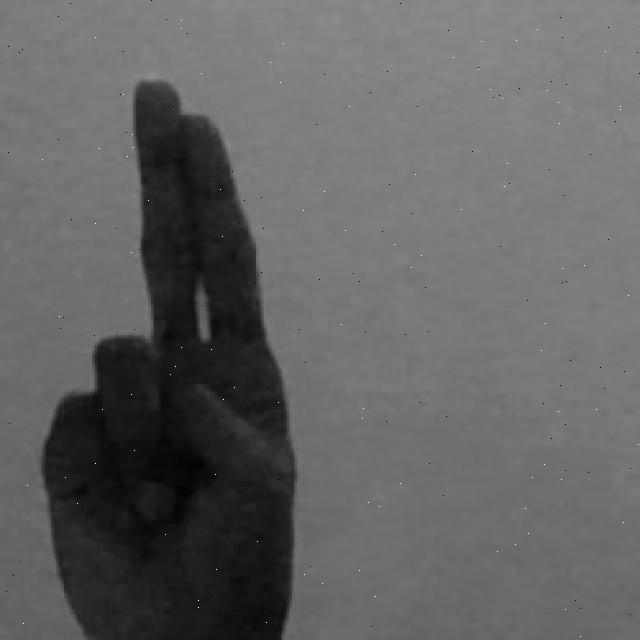U: (32, 73, 304, 640)
